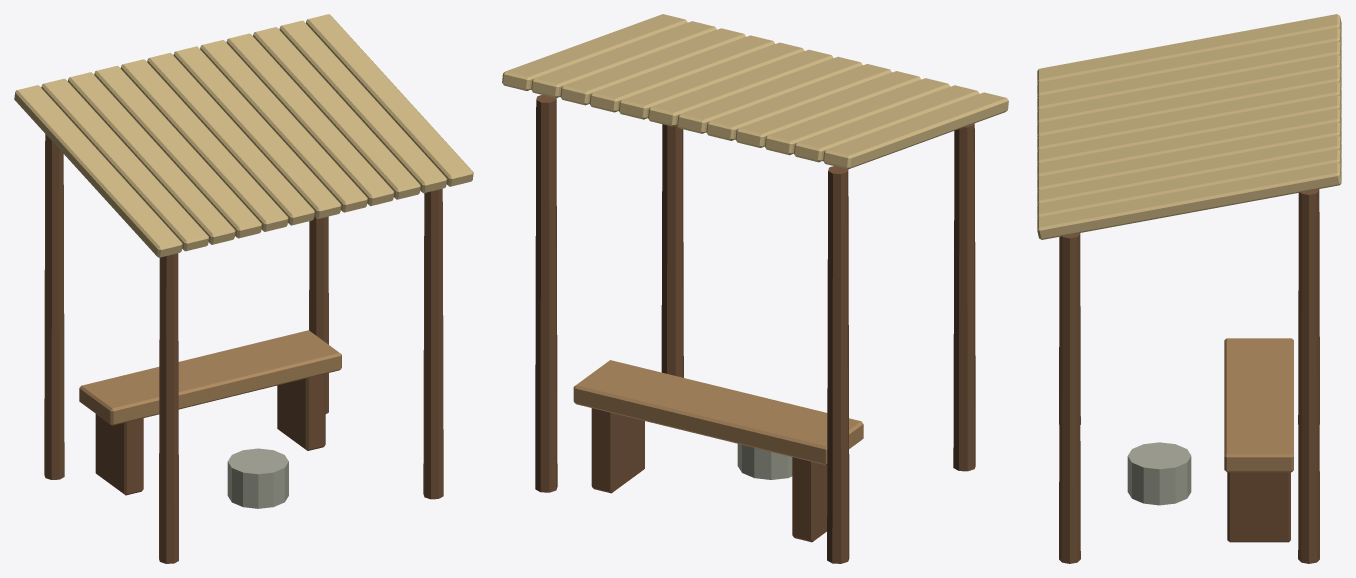
3 views of the same model, side by side, from view 1: azimuth 30°, elevation 25°; view 2: azimuth 150°, elevation 25°; view 3: azimuth 270°, elevation 25° (orthographic). The views are drawn at different scales.
Visible parts, largest first — view 1: WW-027 Charcoal watch shelter batched; view 2: WW-027 Charcoal watch shelter batched; view 3: WW-027 Charcoal watch shelter batched.
Boxes of the visible parts, x1,y1,x2,y2 form: WW-027 Charcoal watch shelter batched: [14, 14, 473, 563]; WW-027 Charcoal watch shelter batched: [502, 14, 1008, 563]; WW-027 Charcoal watch shelter batched: [1037, 14, 1341, 563].
Bounding box in the file's own units: 1.91 × 2.21 × 1.53.
